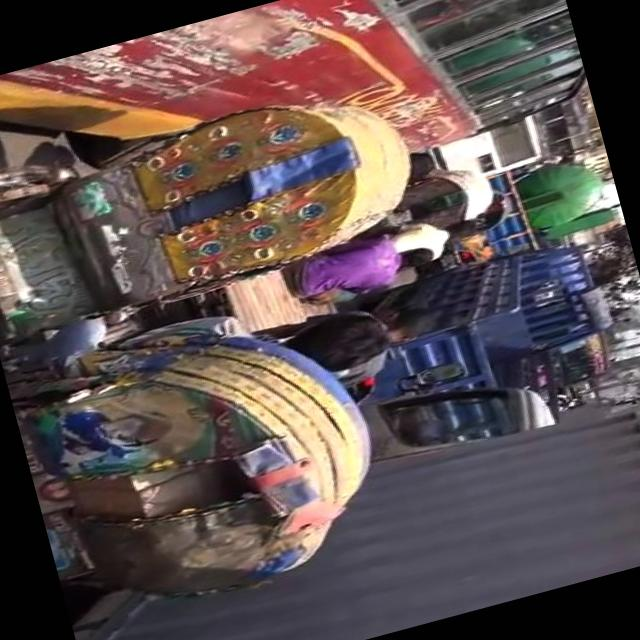bus: (0, 0, 593, 264), (418, 113, 552, 190)
motorcycle: (4, 276, 405, 634), (0, 54, 441, 349)
truck: (43, 325, 640, 640), (323, 227, 635, 468), (418, 160, 544, 278)
